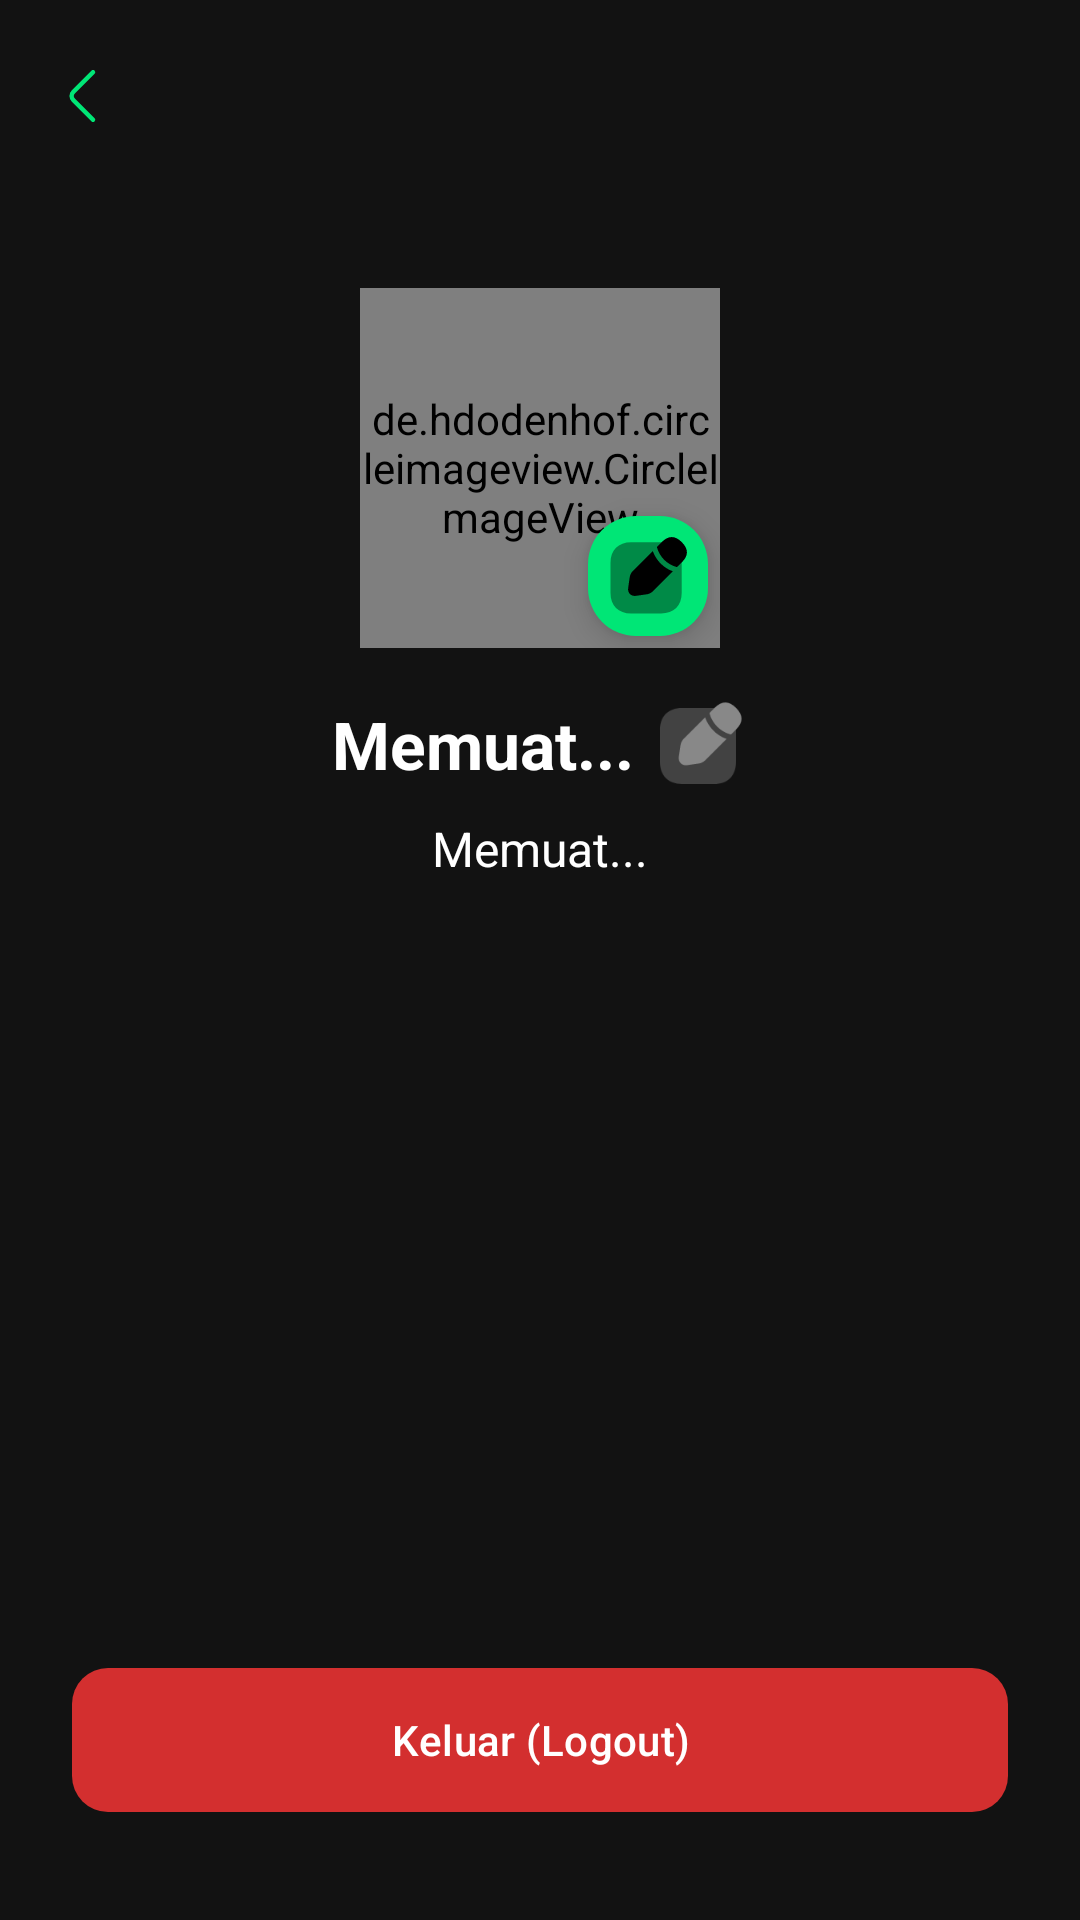

Where to tap for icons on this 1080 × 1920 app screen, as (x,y):
Ubah Avatar: (643,570)
Ubah Username: (701,743)
